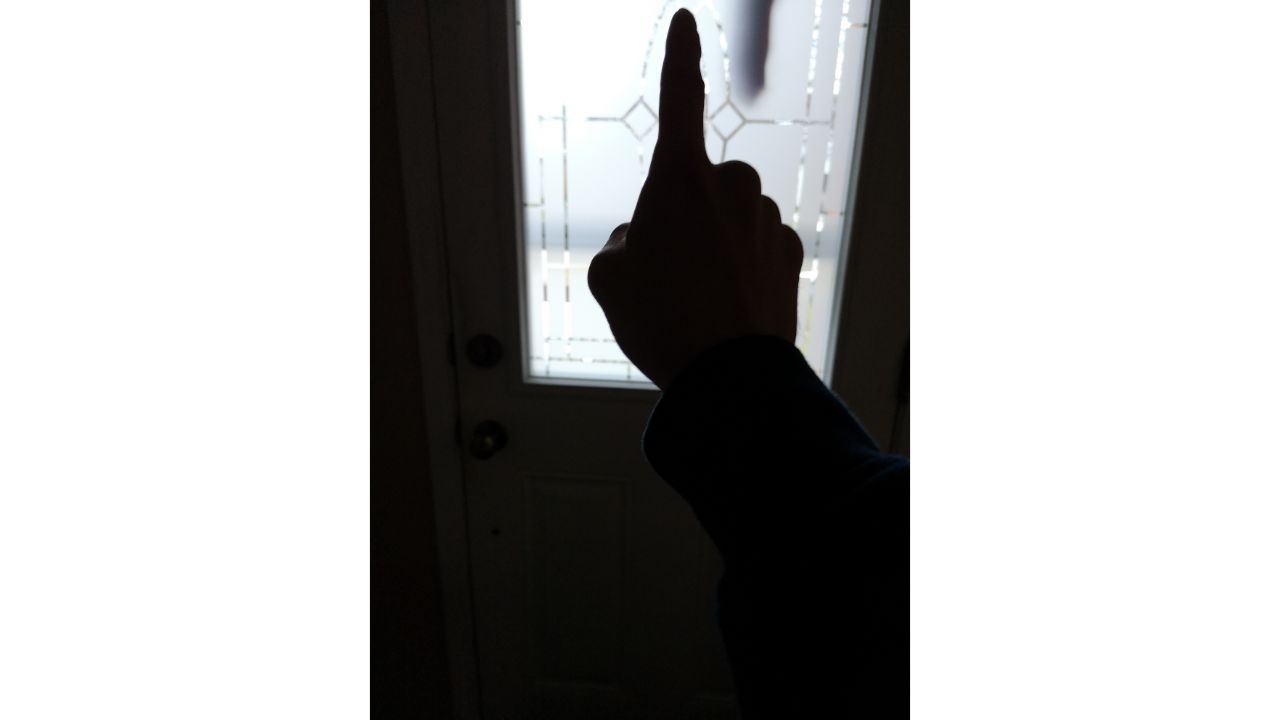finger: (588, 7, 820, 373)
